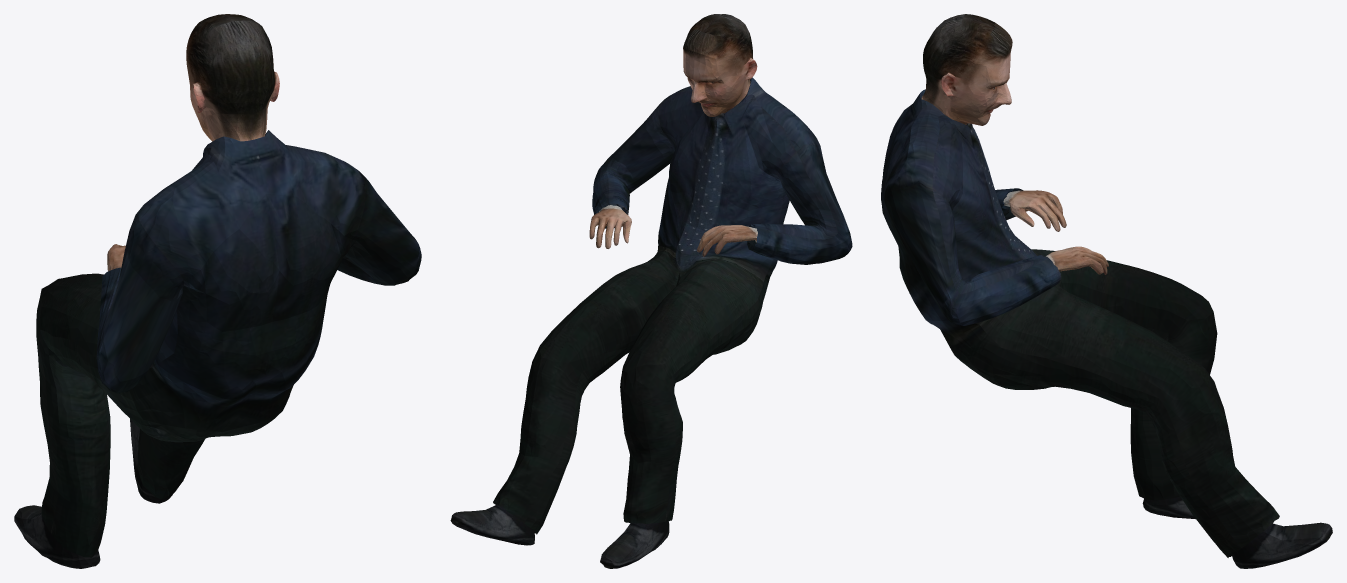
Rendered from old.glb.
3 renders of one model, left to right at view 1: azimuth 30°, elevation 25°; view 2: azimuth 150°, elevation 25°; view 3: azimuth 270°, elevation 25°, orthographic. The views are drawn at different scales.
Parts seen in each view (by area): view 1: Object_5; view 2: Object_5; view 3: Object_5.
Part boxes in pixels (x1=…): Object_5: x1=14, y1=14, x2=421, y2=568; Object_5: x1=450, y1=14, x2=852, y2=568; Object_5: x1=881, y1=14, x2=1332, y2=568.
Bounding box in the file's own units: 1.4 × 2.5 × 2.01.
1 material, 1 textured.
